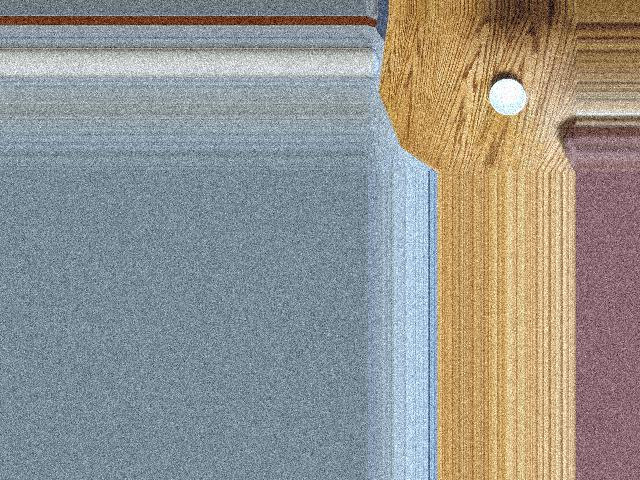cotage: (485, 79, 531, 117)
